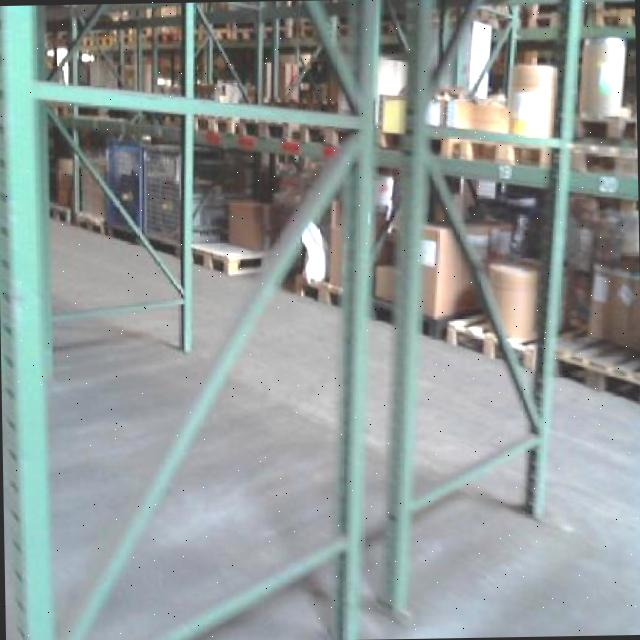pallet: (441, 313, 541, 372), (187, 233, 278, 279), (65, 205, 108, 240)
